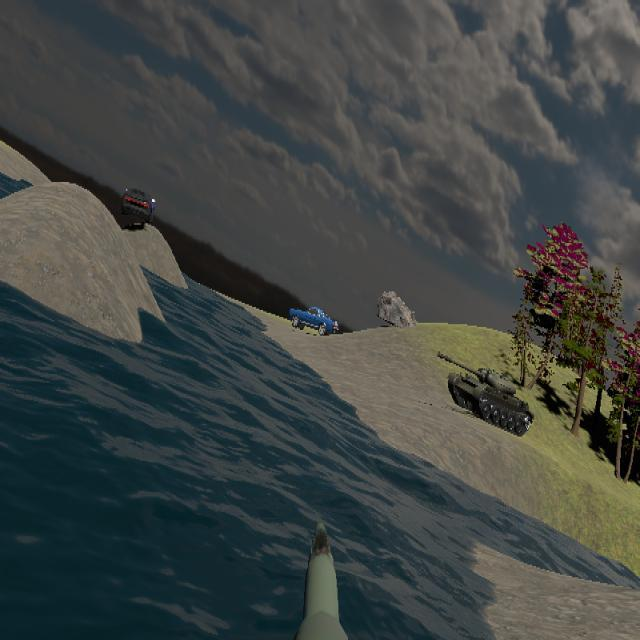Tank: (436, 351, 535, 438)
car: (288, 303, 336, 337), (121, 185, 157, 224)
